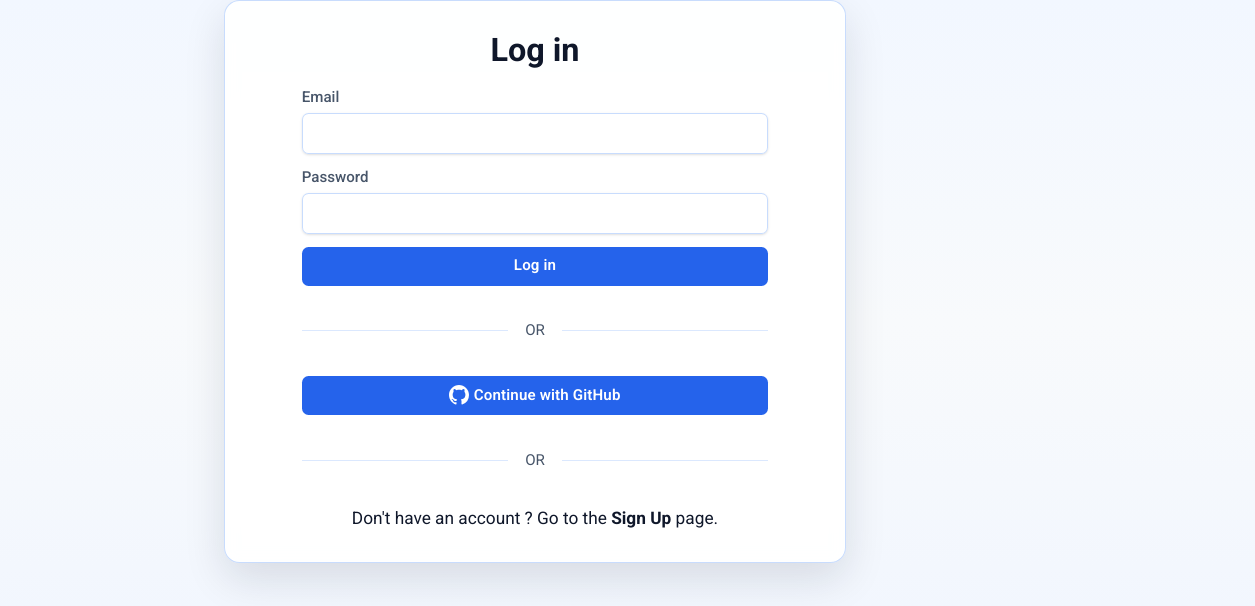
LogIn Form Submit › Redirects to Home on successful form submit
Type "new@user.com" into the field labelled "Email" at x=535, y=134, box [302,113,768,154]
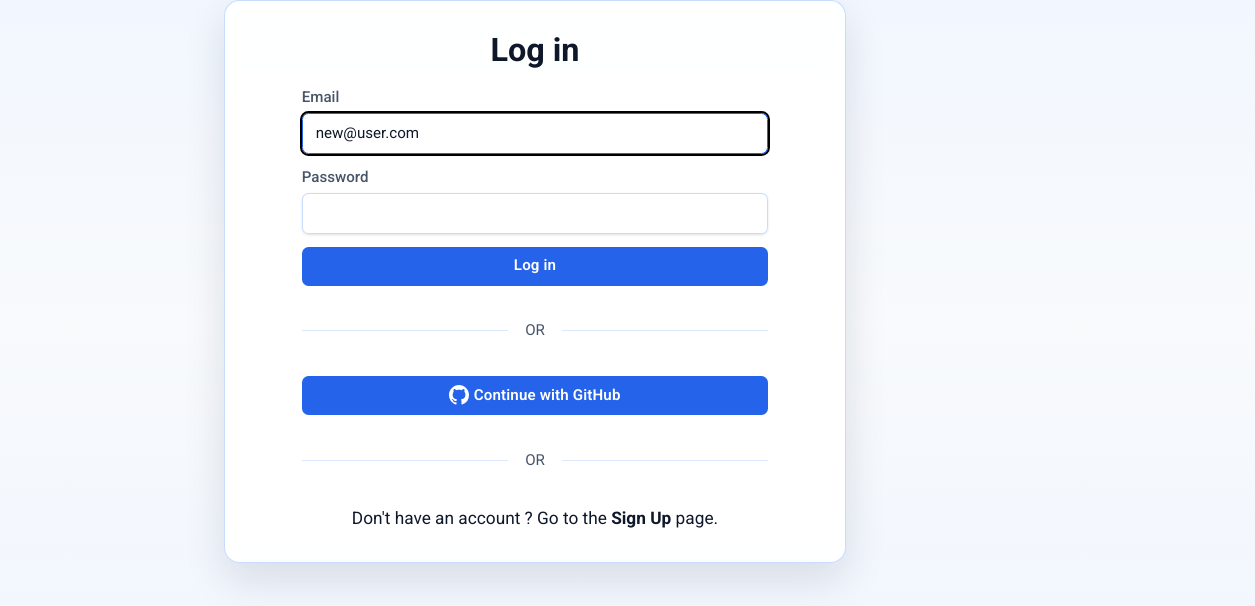
Type "Password123!" into the password field labelled "Password" at x=535, y=213, box [302,193,768,234]
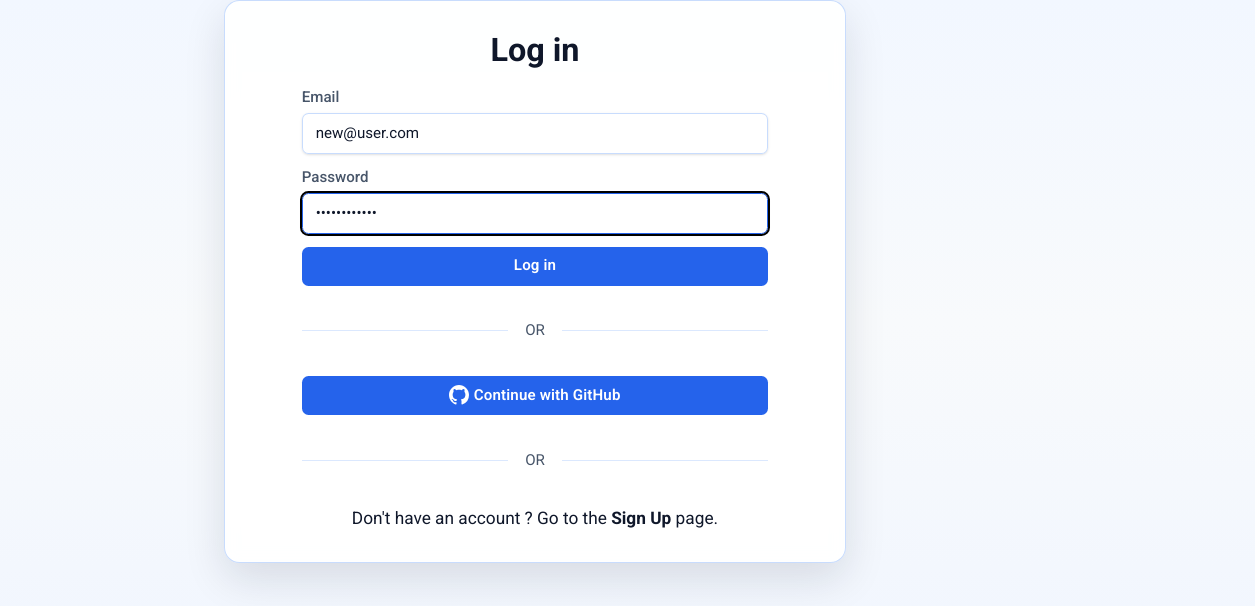
Click the button "Log in" at x=535, y=266, box [302,247,768,286]
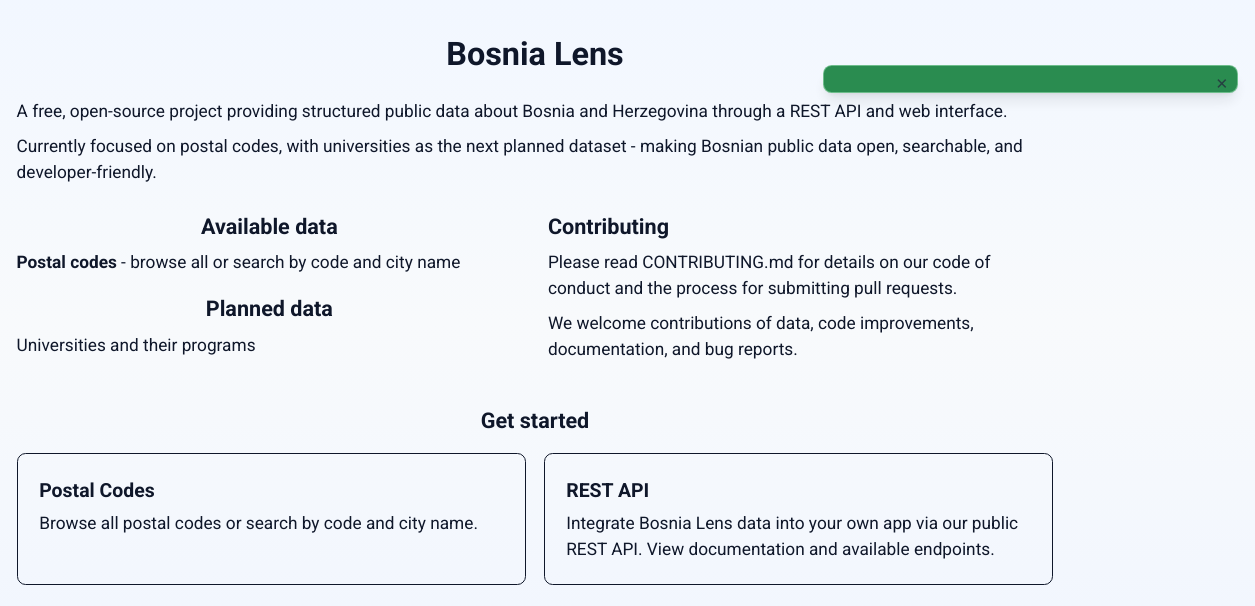
Result: the text "A free, open-source project" is shown at [17,101,1007,121]
